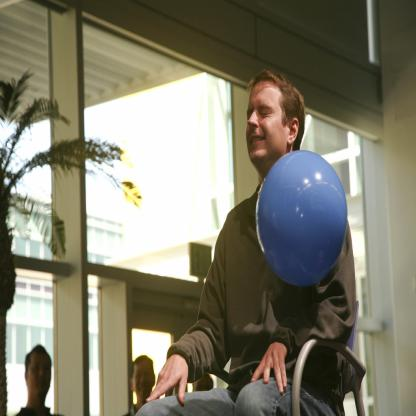Ball: (257, 146, 348, 285)
